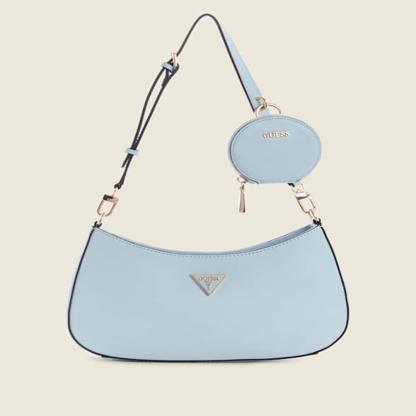not trash: (66, 13, 348, 364)
